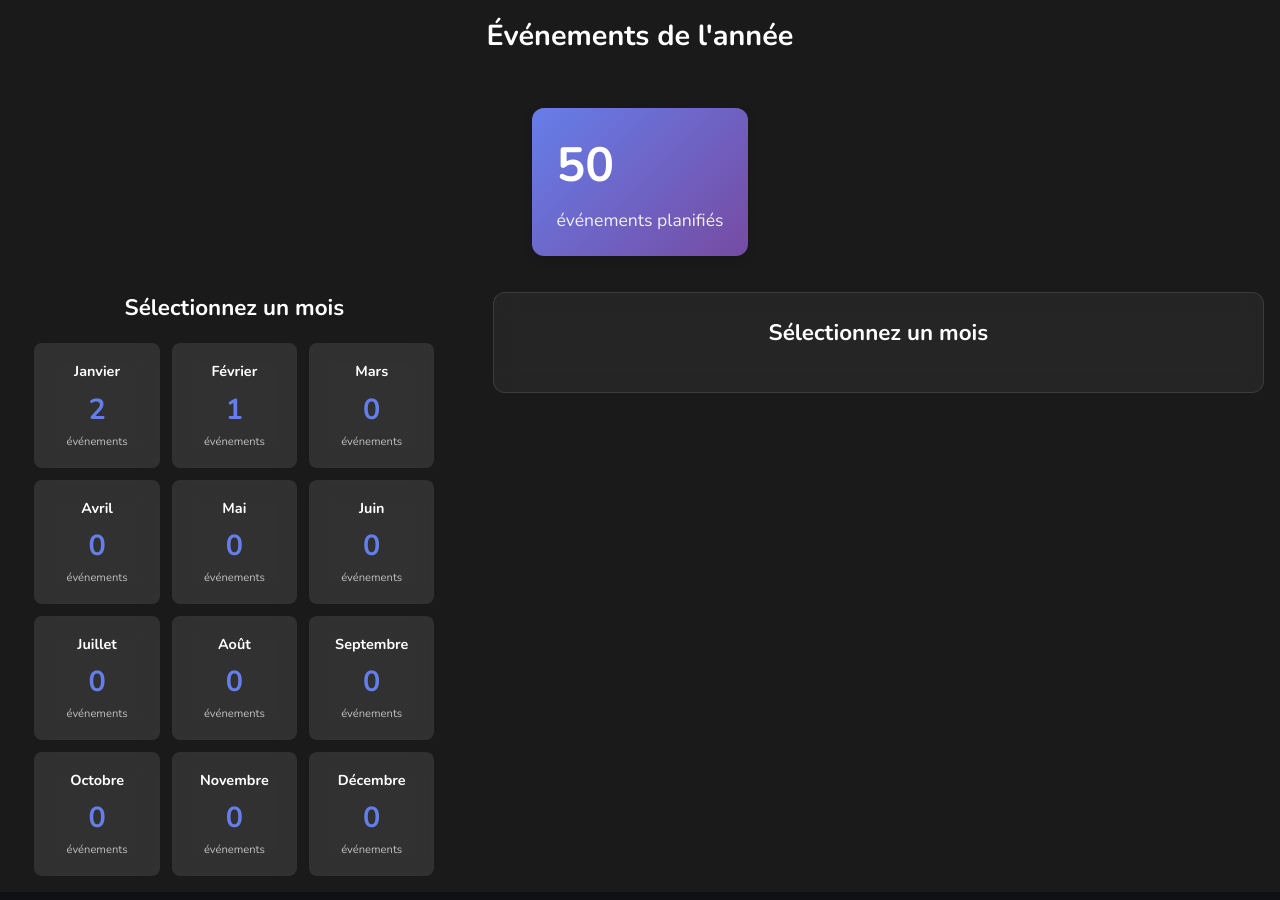
it: EventsSlide › displays correct event count text (singular/plural)
Click the element with class "month-card" showing "Janvier 2 événements": {"x": 97, "y": 406} [34, 344, 160, 468]
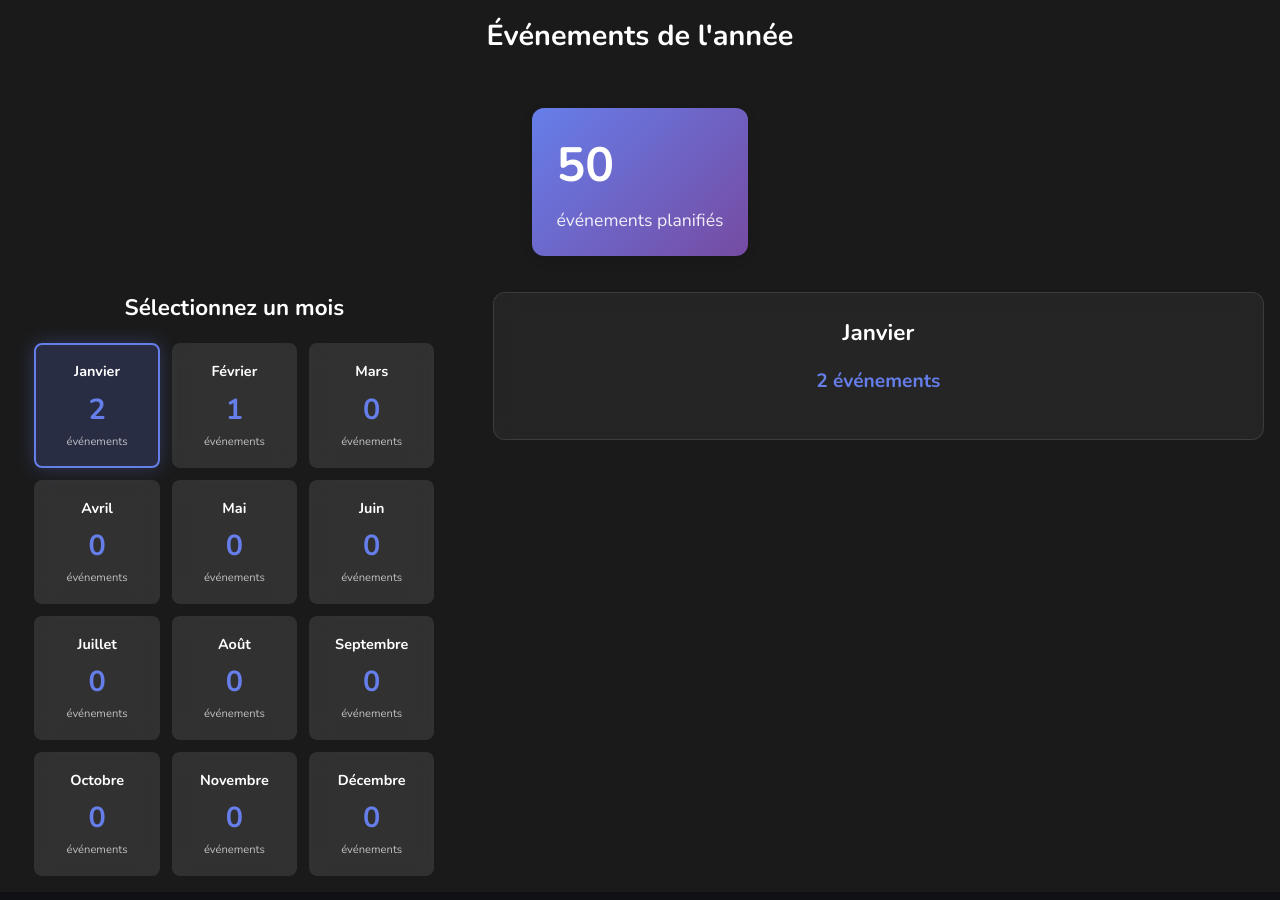
Now the text with class "events-count" reads "2 événements", box [816, 368, 940, 394]
